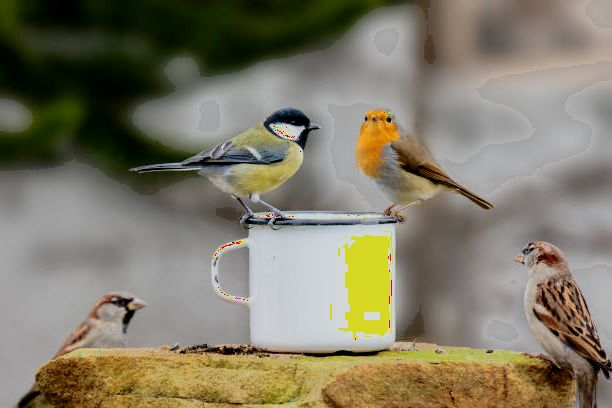Bird: (128, 103, 322, 232), (353, 103, 496, 224), (510, 239, 612, 382), (48, 284, 148, 356)
